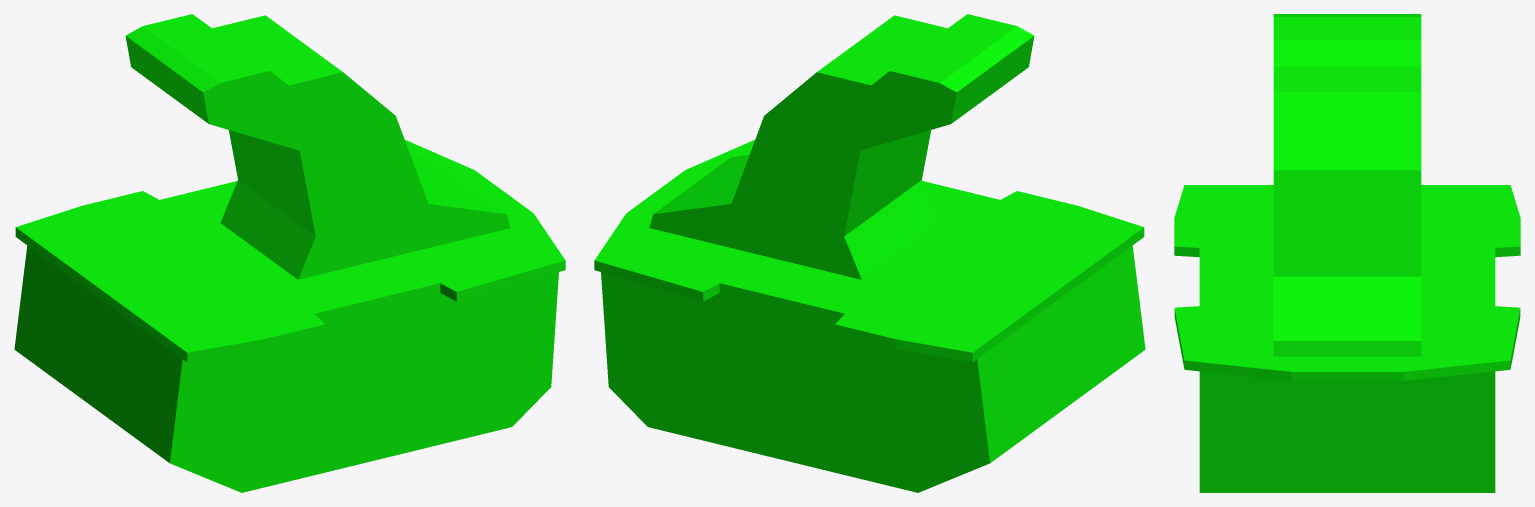
The model's file is chassis.dae.
The picture shows the model from 3 angles, left to right: view 1: azimuth 30°, elevation 25°; view 2: azimuth 150°, elevation 25°; view 3: azimuth 270°, elevation 25°; orthographic projection. The views are drawn at different scales.
Visible parts, largest first — view 1: Untitled; view 2: Untitled; view 3: Untitled.
Boxes of the visible parts, x1,y1,x2,y2 form: Untitled: (14,14,565,492); Untitled: (594,14,1145,492); Untitled: (1174,14,1520,492).
Size of the model in its own units: 0.2818 by 0.2159 by 0.2466.
